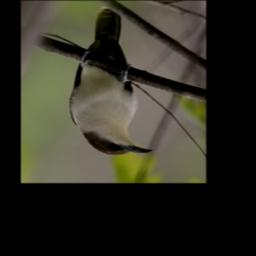Cuckoo: (69, 5, 154, 156)
